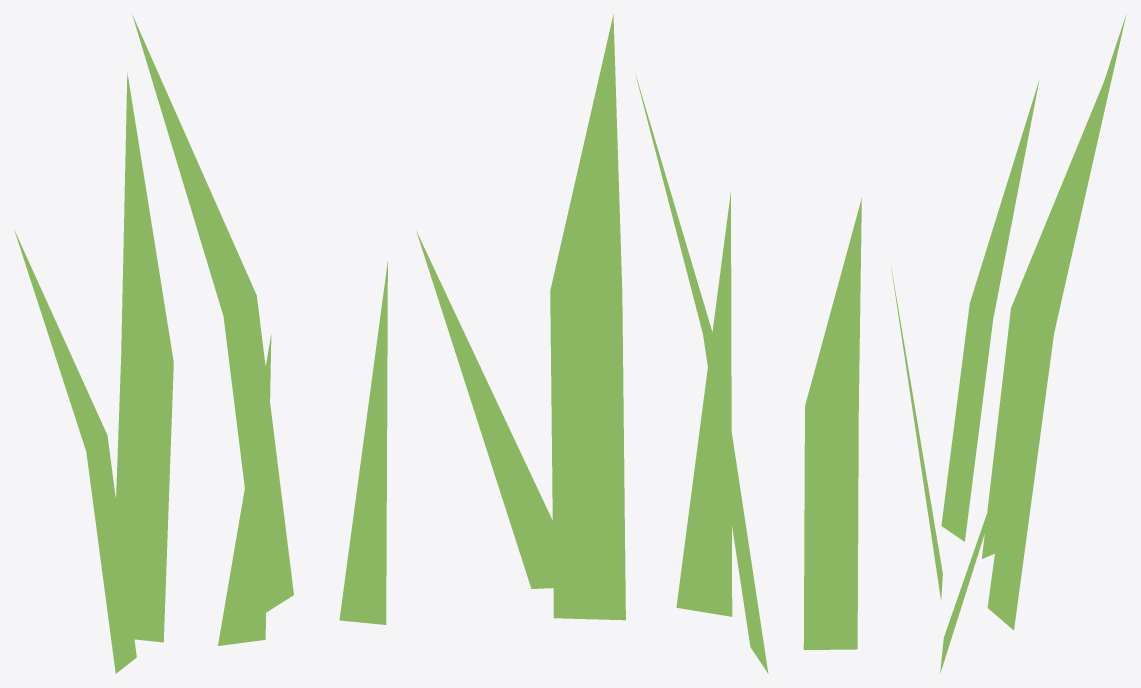
The model's file is Grass_b_TwoS_03.fbx.
3 renders of one model, left to right at view 1: azimuth 30°, elevation 25°; view 2: azimuth 150°, elevation 25°; view 3: azimuth 270°, elevation 25°, orthographic. The views are drawn at different scales.
Parts seen in each view (by area): view 1: Grass_b_TwoS_03; view 2: Grass_b_TwoS_03; view 3: Grass_b_TwoS_03.
Part boxes in pixels (x1,y1,x2,y2): Grass_b_TwoS_03: (14, 15, 387, 673); Grass_b_TwoS_03: (416, 14, 861, 673); Grass_b_TwoS_03: (891, 15, 1126, 673).
Bounding box in the file's own units: 0.3188 × 0.4782 × 0.1759.
